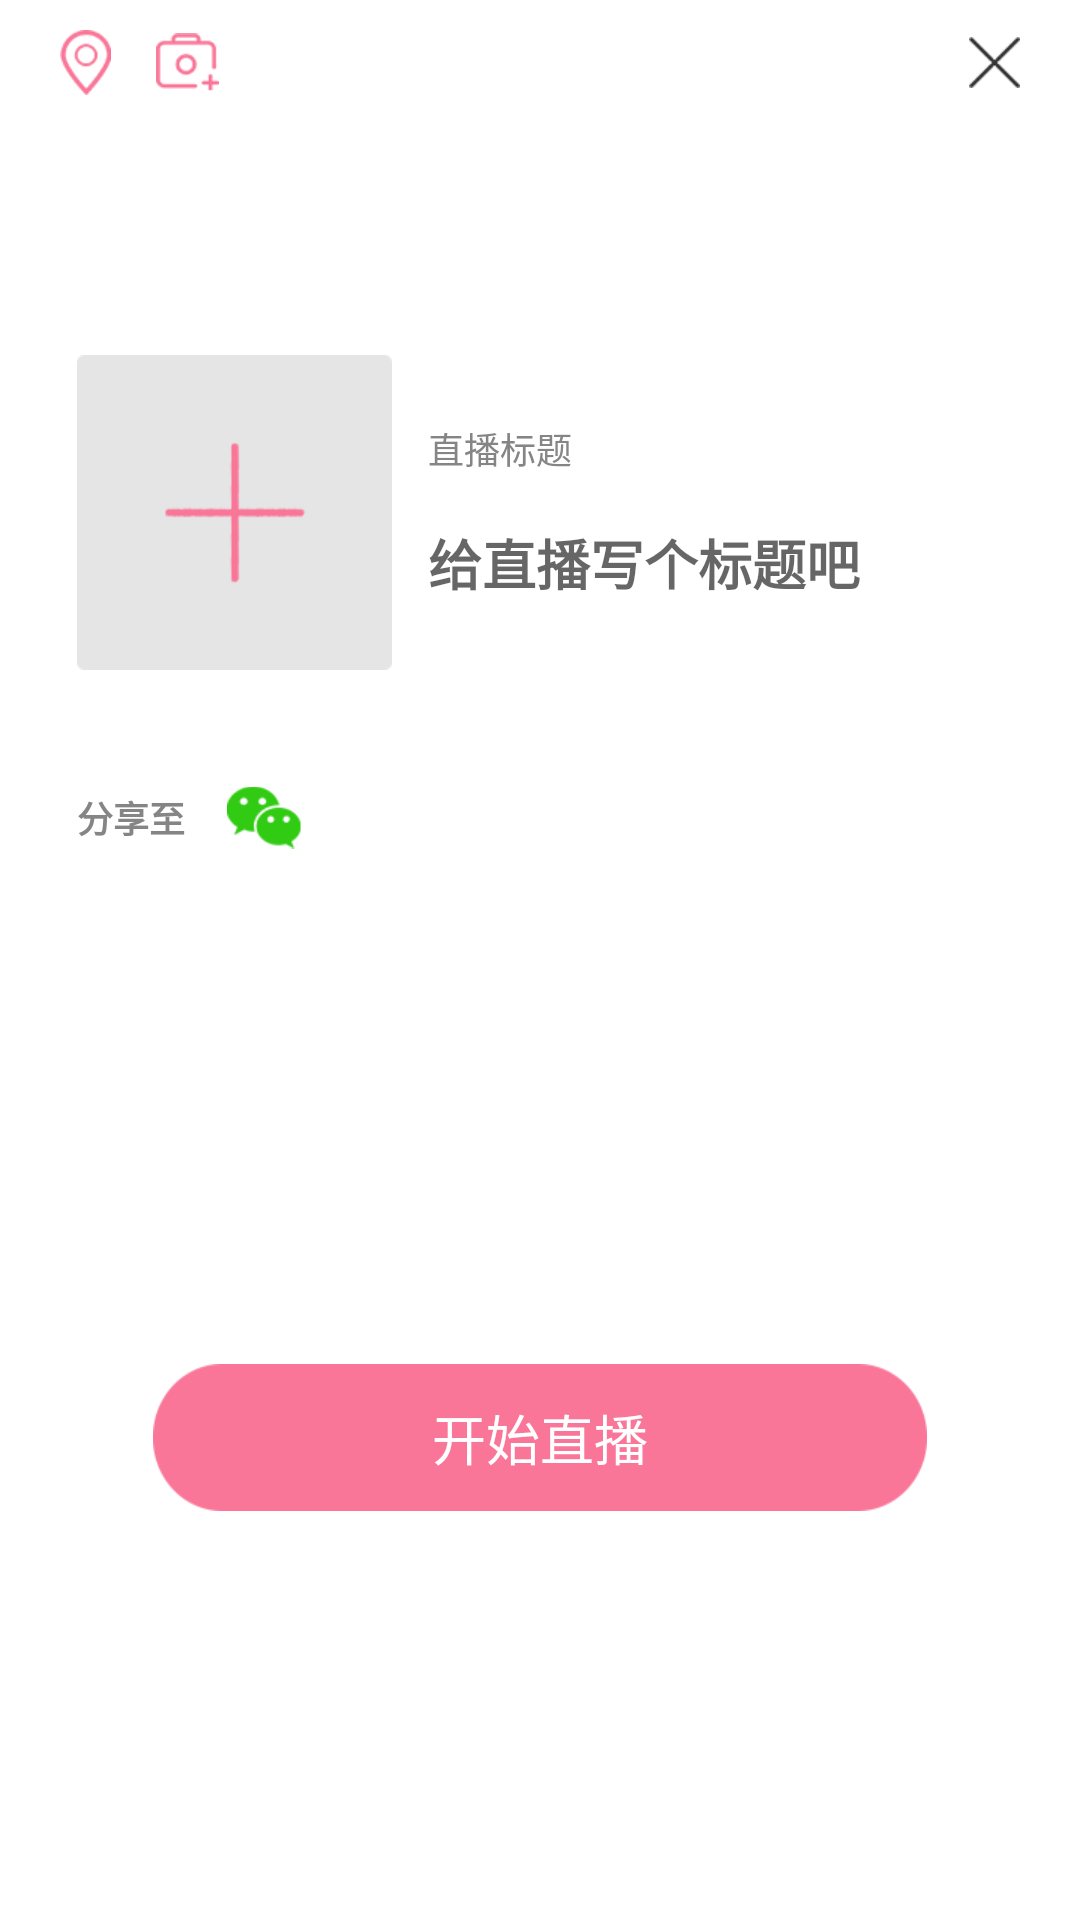

Where to tap for icons on this 1080*1920 app screen, as [x,y]:
add: [234,512]
finish: [994,62]
locate: [85,62]
photo: [187,62]
